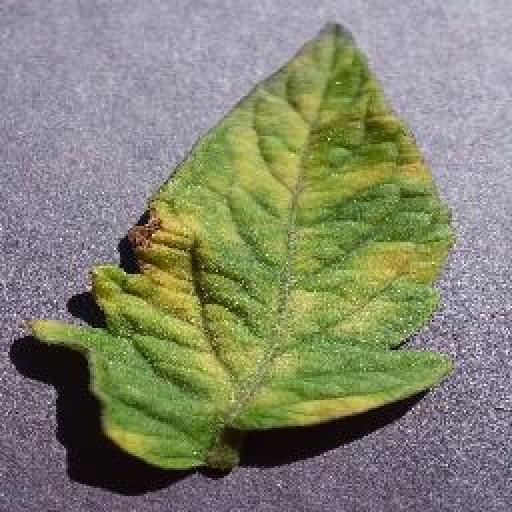disease_tomato: (37, 19, 452, 473)
